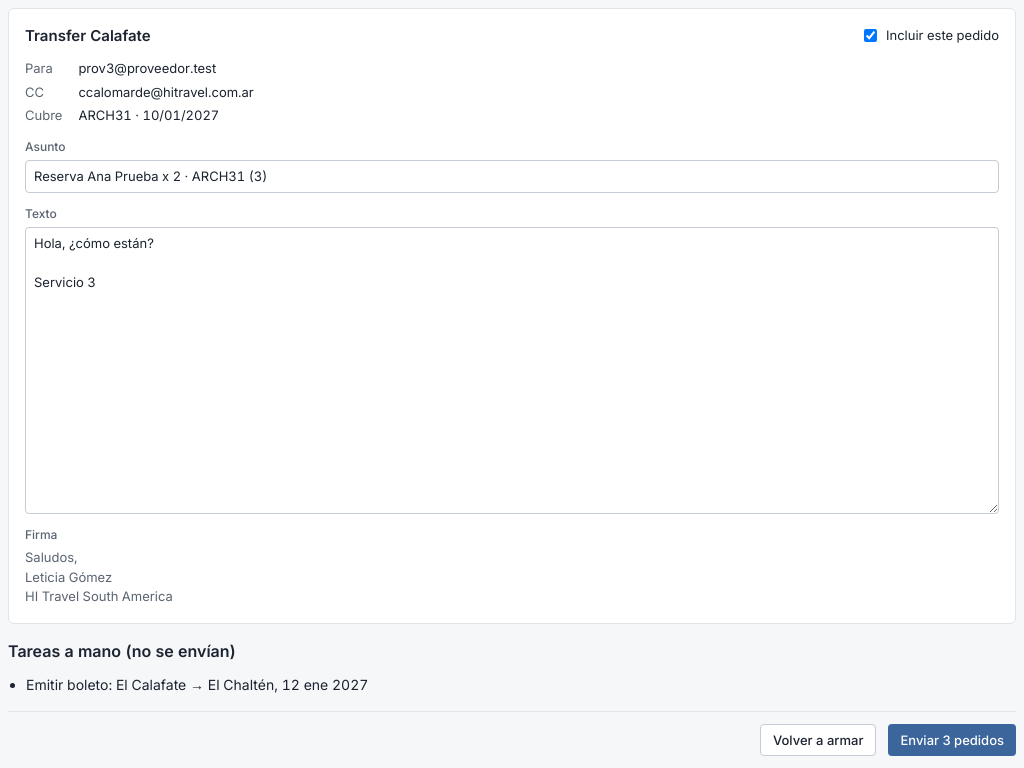
Test: el diálogo 'Enviar N pedidos' (fila 8) › envío real prendido: no muestra el modo prueba
The width and height of the screenshot is (1024, 768).
(page scrolled)
Click the button "Enviar 3 pedidos": click(952, 740) [888,724,1016,756]
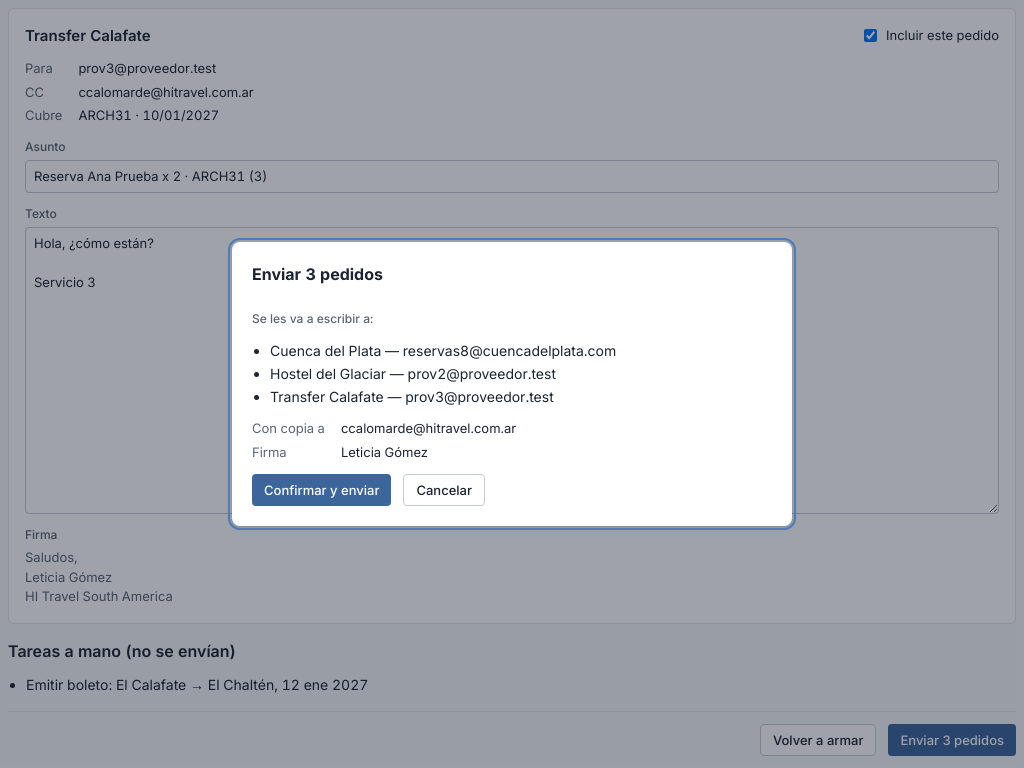
Click the button "Cancelar": click(444, 490) [403,474,485,506]
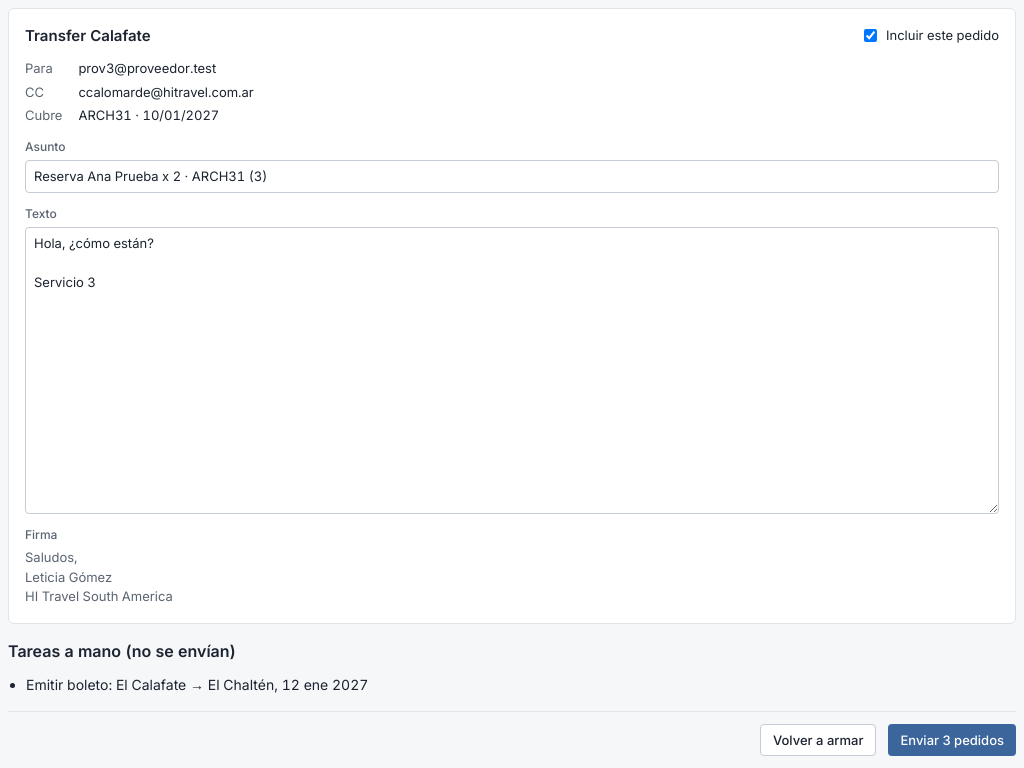
Check: the dialog is gone
